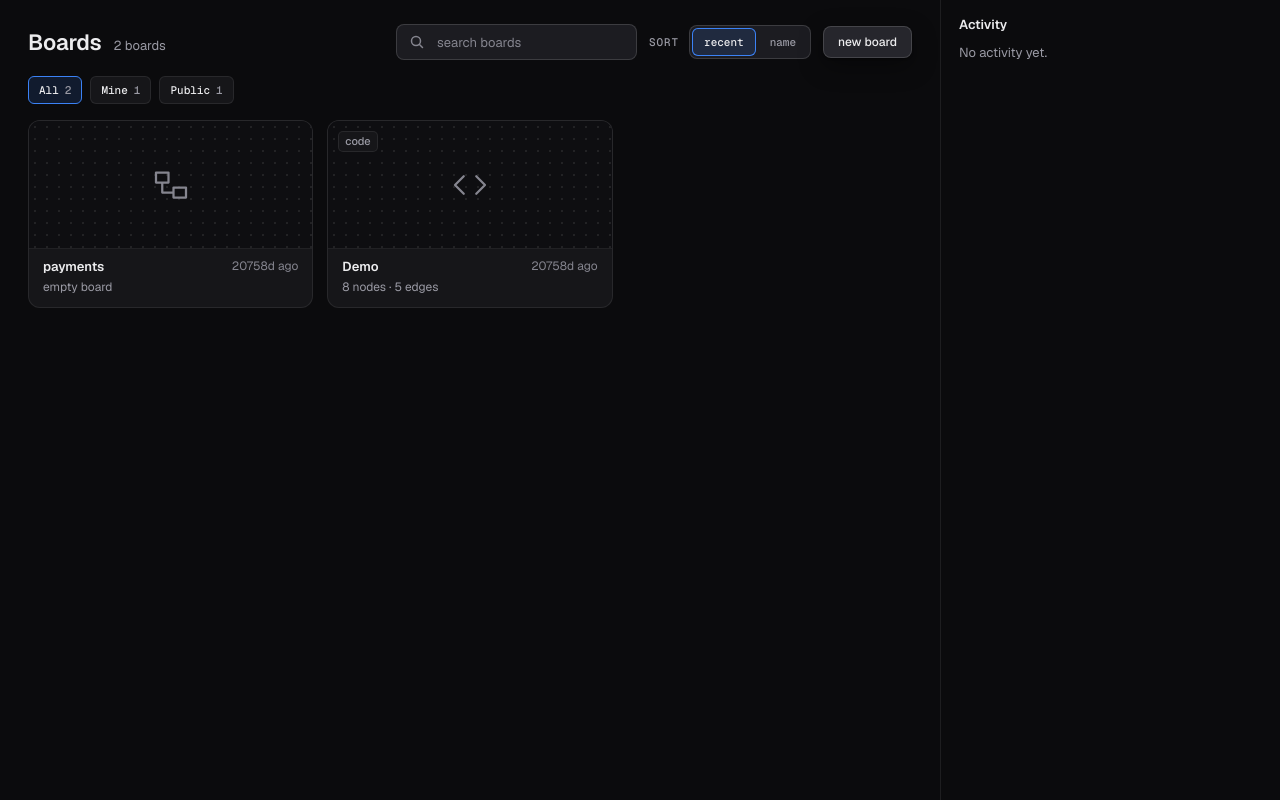
Test case: dashboard page › opens a board in the inspector, swaps the activity feed out, and closes on Escape
Expected: the heading "Activity" is shown, [959,16,1007,33]
Step 1. Click the button named "Details for payments" → (171, 185), box [29,121,312,249]
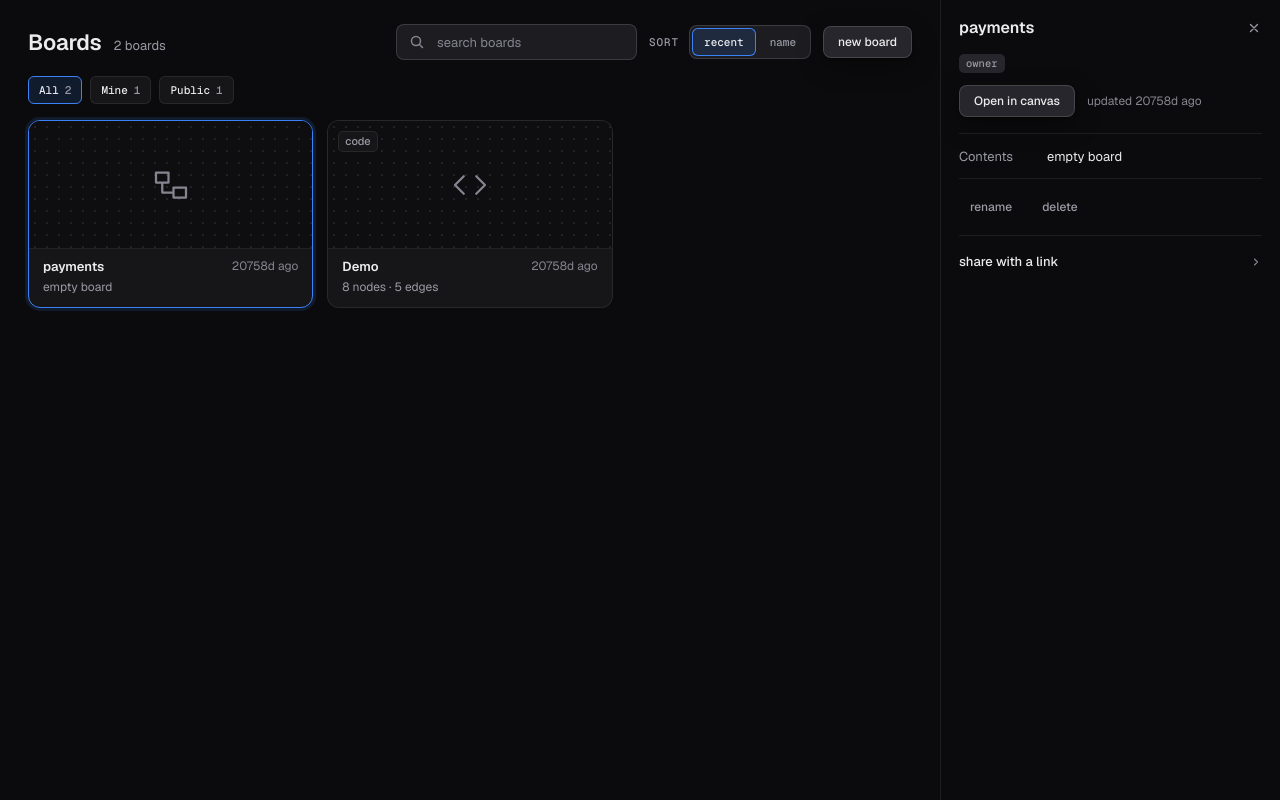
Result: the element with test id "board-card" shows "payments" at [959,17,1034,38]
Result: the heading "Activity" is gone
Step 2. Press Escape
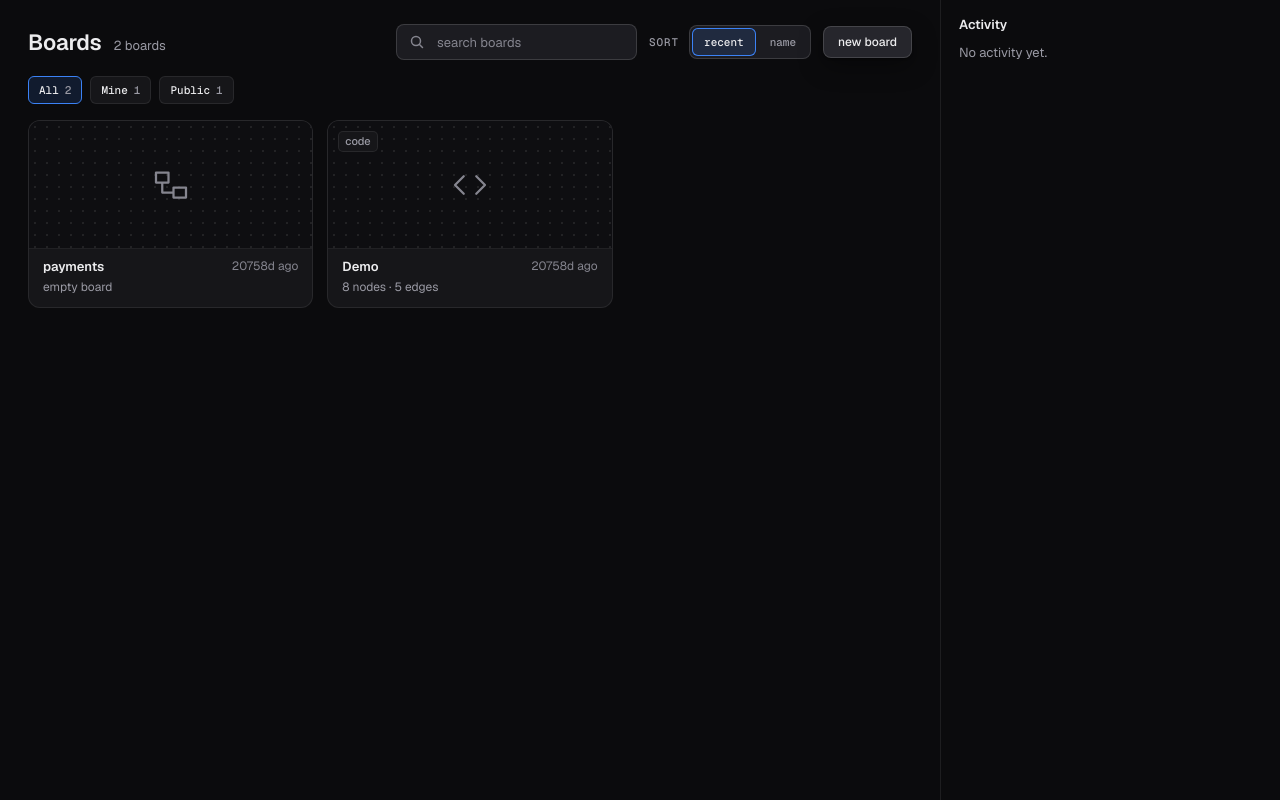
Result: the element with test id "board-card" is gone
